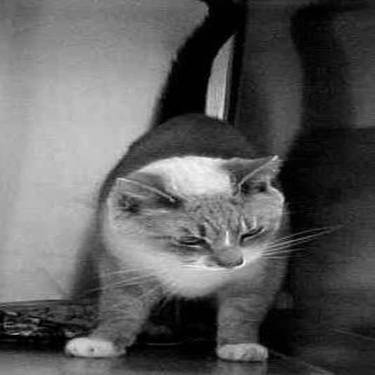cat: (24, 94, 347, 365)
